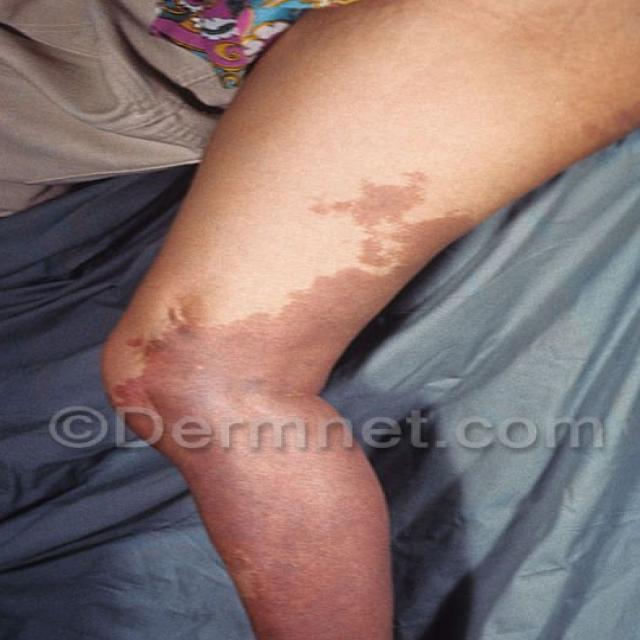Vascular Tumors: (171, 373, 413, 640), (258, 171, 444, 359), (131, 289, 355, 404)
